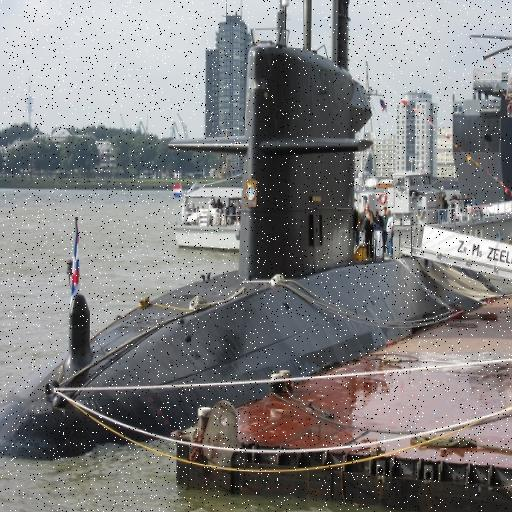submarine: (1, 1, 499, 465)
